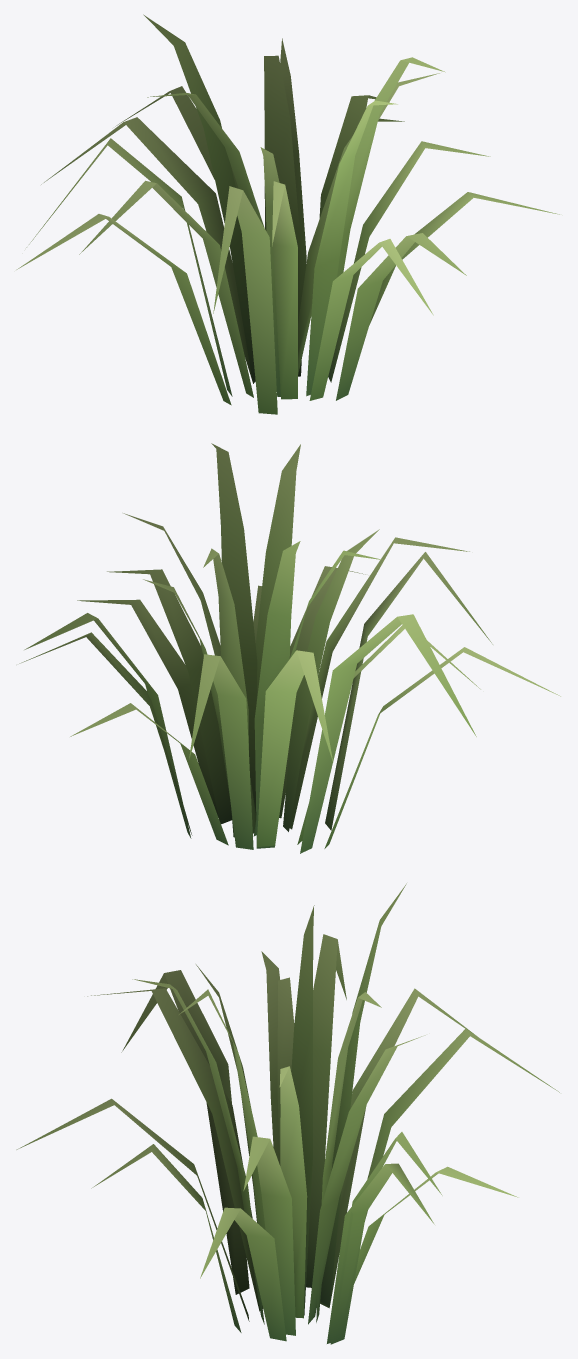
Rendered from deco-grass-v2.glb.
3 renders of one model, top to bottom at view 1: azimuth 30°, elevation 25°; view 2: azimuth 150°, elevation 25°; view 3: azimuth 270°, elevation 25°, orthographic. The views are drawn at different scales.
Parts seen in each view (by area): view 1: 0_grass; view 2: 0_grass; view 3: 0_grass.
Boxes of the visible parts, x1=… form: 0_grass: x1=16, y1=14, x2=559, y2=414; 0_grass: x1=19, y1=443, x2=560, y2=853; 0_grass: x1=16, y1=883, x2=559, y2=1344.
Bounding box in the file's own units: 0.9079 × 0.5917 × 0.7682.
